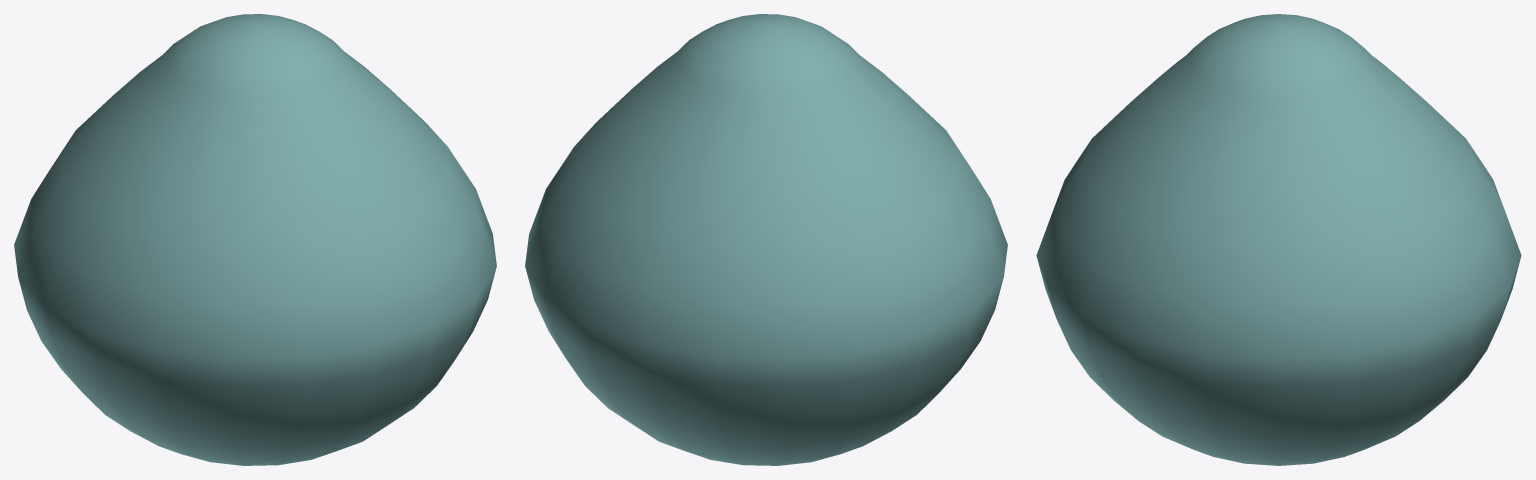
File: MOD_Gun_Projectile.fbx
3 renders of one model, left to right at view 1: azimuth 30°, elevation 25°; view 2: azimuth 150°, elevation 25°; view 3: azimuth 270°, elevation 25°, orthographic.
Visible parts, largest first — view 1: pSphere1; view 2: pSphere1; view 3: pSphere1.
Part boxes in pixels (box(x1,y1,x2,y2)): pSphere1: box(14, 14, 496, 465); pSphere1: box(525, 14, 1007, 465); pSphere1: box(1036, 14, 1521, 465).
Size of the model in its own units: 10.07 by 9.56 by 10.07.
